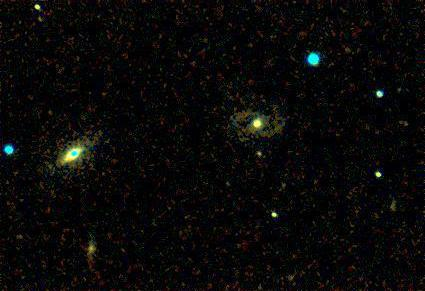star: (244, 137, 274, 167)
